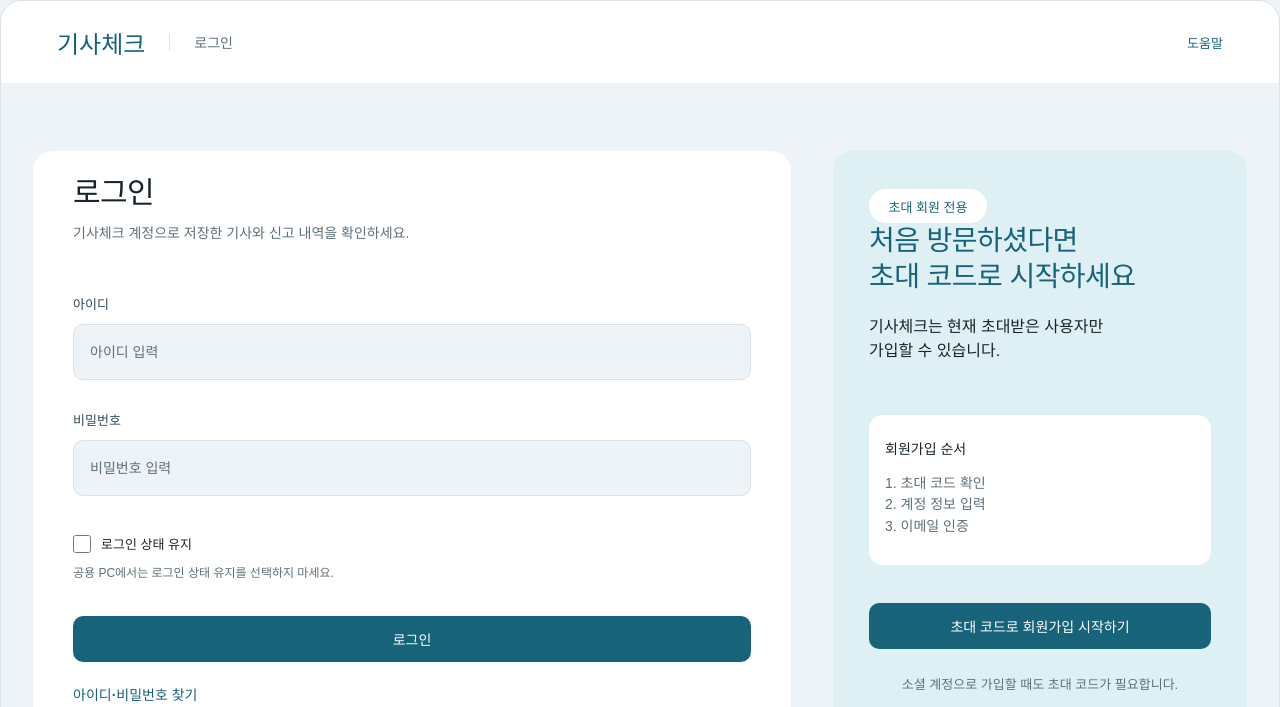
Scenario: App › 로그인 화면의 도움말 링크로 이용 안내를 연다
The width and height of the screenshot is (1280, 707).
Click the link "도움말": (1205, 42) top-left (1187, 32), bottom-right (1223, 52)
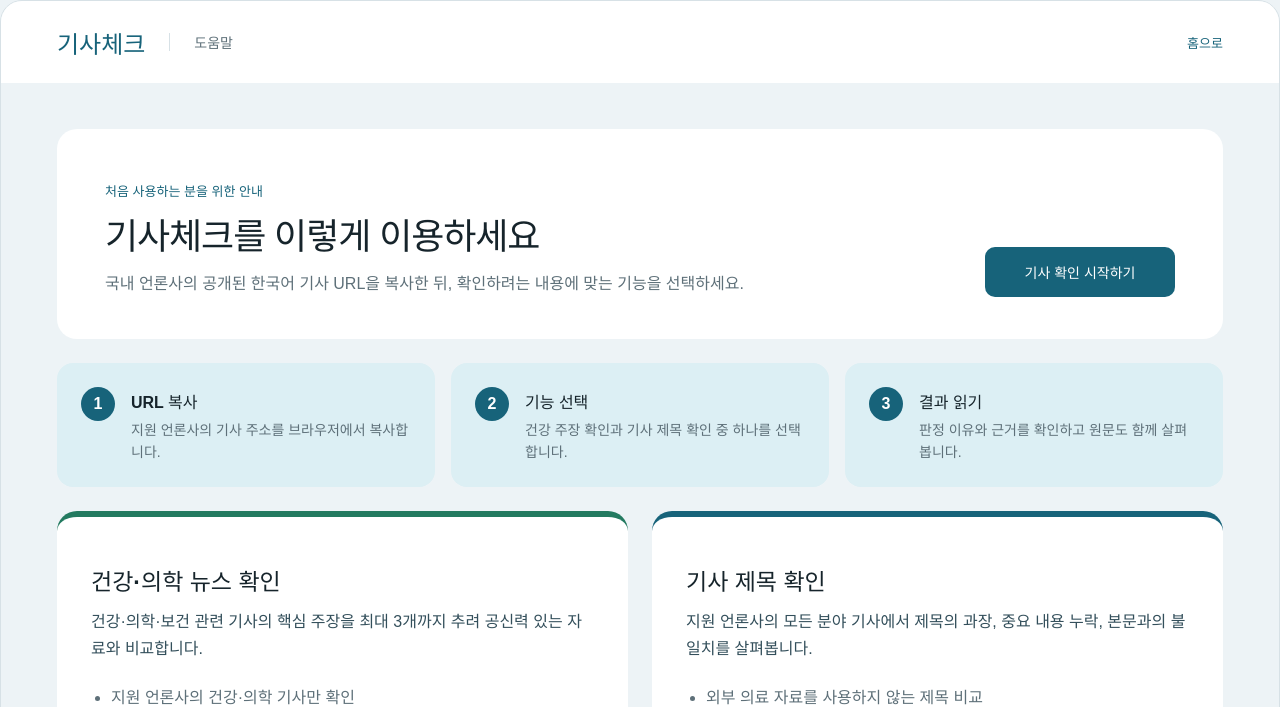
Check: the heading "기사체크를 이렇게 이용하세요" is shown, box top-left (105, 216), bottom-right (539, 257)
Check: the text "URL 복사" is shown, box top-left (131, 394), bottom-right (198, 411)
Check: the text "기능 선택" is shown, box top-left (525, 394), bottom-right (588, 411)
